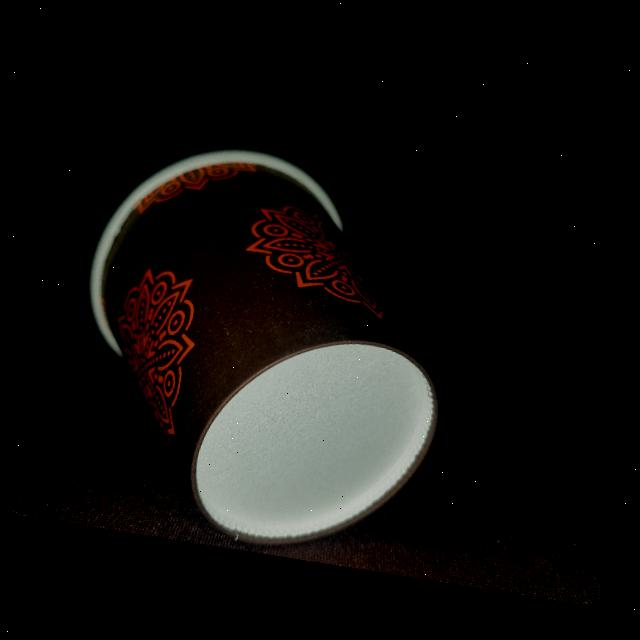trash: (46, 123, 478, 578)
